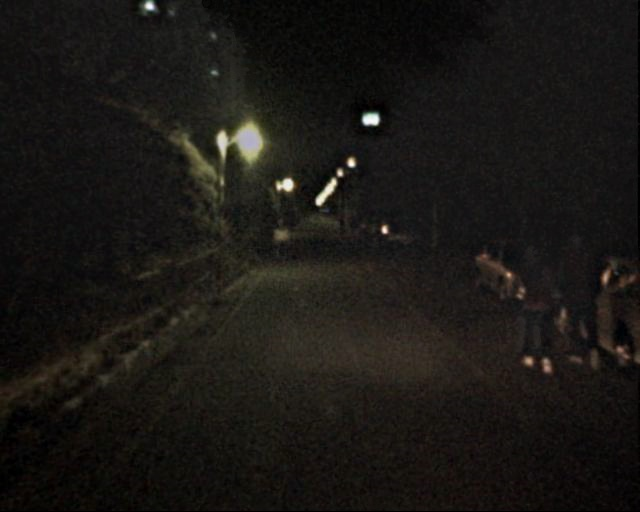person: (508, 243, 565, 376), (552, 237, 609, 369), (268, 217, 291, 266), (338, 218, 361, 242), (367, 220, 380, 253)
